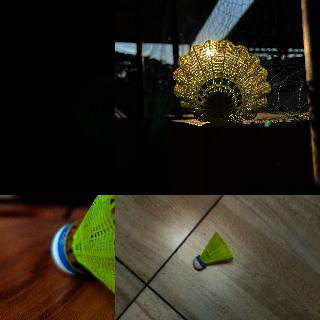shuttlecock: (172, 40, 270, 126), (50, 195, 114, 319), (73, 73, 114, 144), (193, 232, 231, 272)
